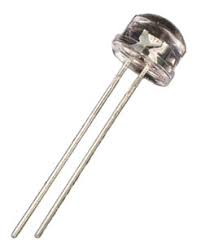LED: (105, 7, 188, 101)
